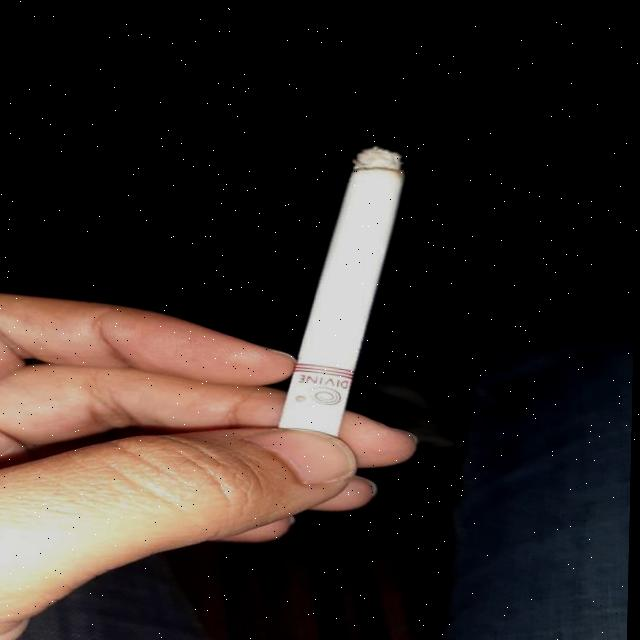cigarette: (279, 135, 408, 430)
